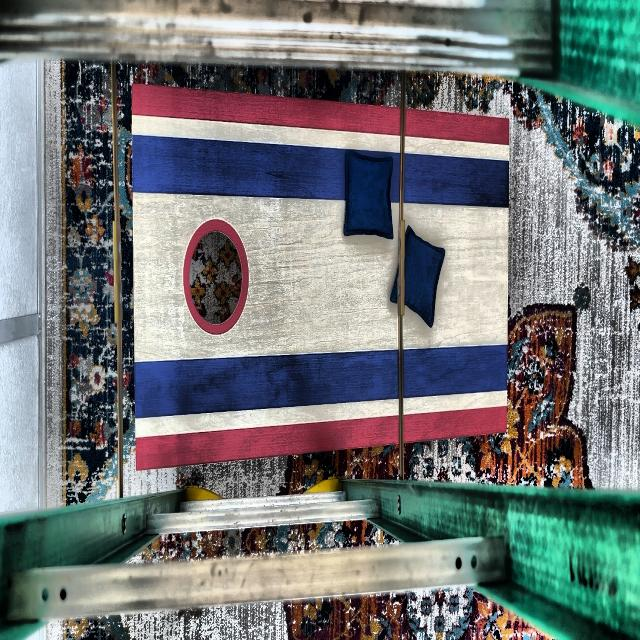blue-bean-bag: (390, 225, 445, 329), (342, 153, 393, 240)
board: (137, 120, 506, 430)
hole: (182, 218, 249, 334)
